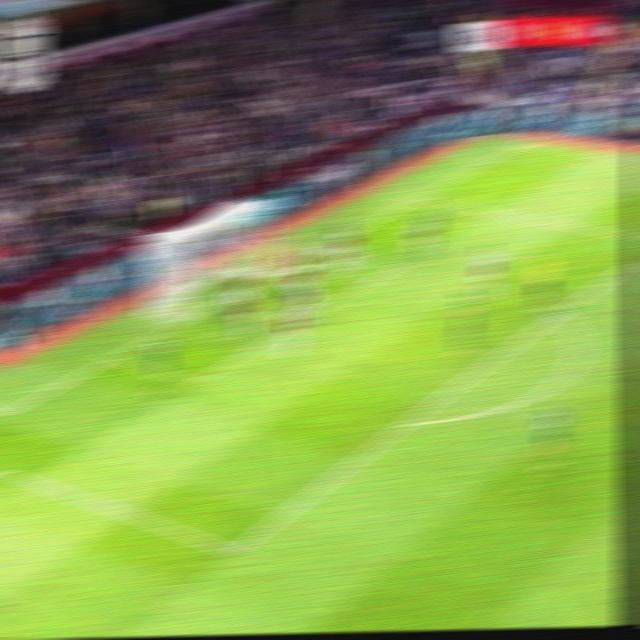bigarea_bottom_inner: (218, 535, 253, 566)
bigarea_top_outter: (406, 189, 432, 204)
bottom_arc_area_intersection: (394, 409, 423, 434)
corner: (508, 137, 538, 151)
smallarea_bottom_inner: (182, 367, 211, 393)
smallarea_bottom_outter: (100, 346, 128, 367)
smallarea_top_inner: (384, 255, 412, 274)
smallarea_top_outter: (309, 240, 334, 256)
top_arc_area_intersection: (543, 300, 575, 326)
